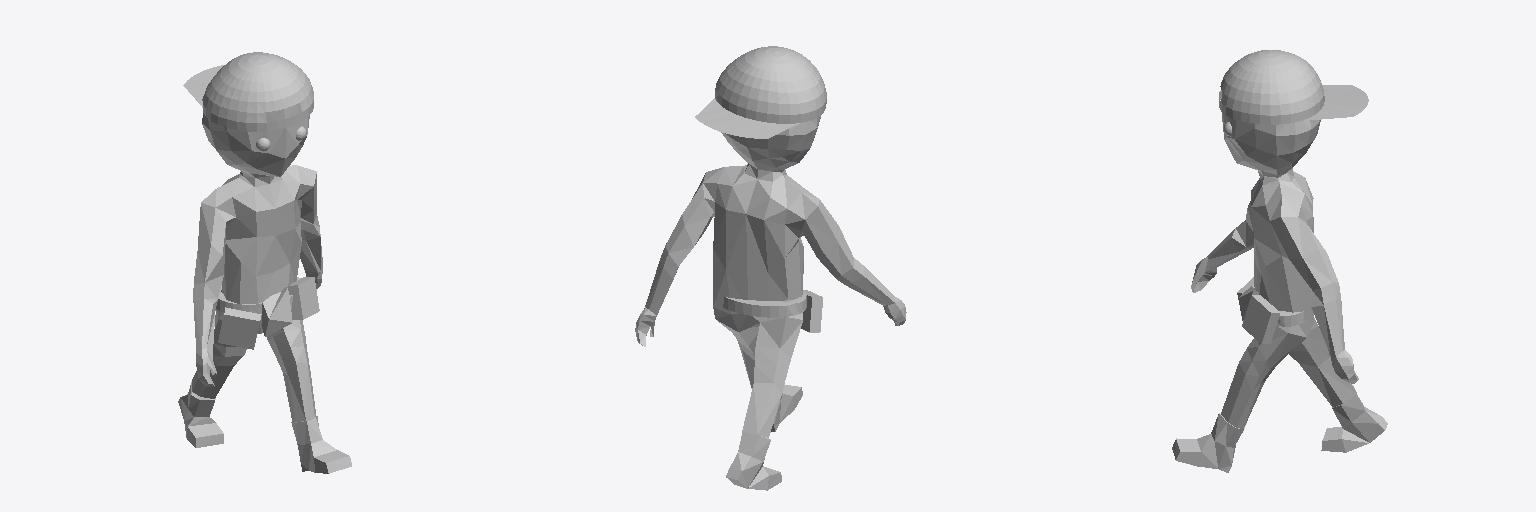
File: Main_Character_Walk_1.obj
3 renders of one model, left to right at view 1: azimuth 30°, elevation 25°; view 2: azimuth 150°, elevation 25°; view 3: azimuth 270°, elevation 25°, orthographic.
Parts seen in each view (by area): view 1: Main_Character_Test.003_Main_Character_Test.004; view 2: Main_Character_Test.003_Main_Character_Test.004; view 3: Main_Character_Test.003_Main_Character_Test.004.
Part boxes in pixels (x1,y1,x2,y2): Main_Character_Test.003_Main_Character_Test.004: (178,52,351,473); Main_Character_Test.003_Main_Character_Test.004: (635,46,906,490); Main_Character_Test.003_Main_Character_Test.004: (1172,50,1387,472).
Size of the model in its own units: 1.97 by 3.87 by 1.88.